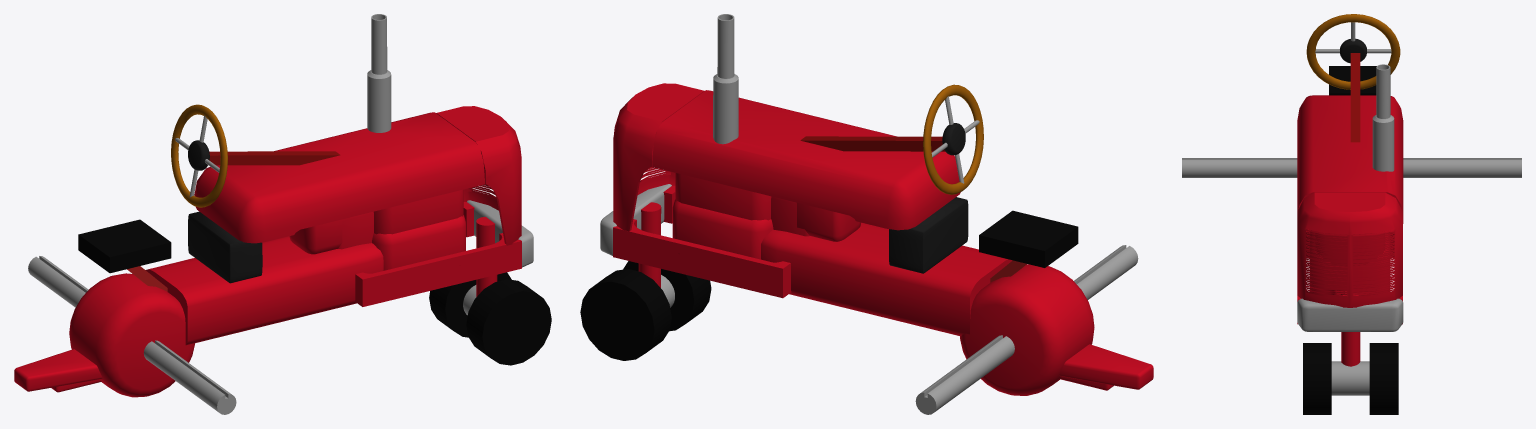
The model's file is corpseCar2.DAE.
The picture shows the model from 3 angles, left to right: view 1: azimuth 30°, elevation 25°; view 2: azimuth 150°, elevation 25°; view 3: azimuth 270°, elevation 25°; orthographic projection. The views are drawn at different scales.
Parts seen in each view (by area): view 1: ChamferBox01, ChamferBox06, ChamferBox30, Cylindre02, ChamferBox02, Box02, Cylinder143, Bo_te02, ChamferBox29, ChamferBox04, ChamferBox03, Torus03 (+9 smaller); view 2: ChamferBox01, ChamferBox06, ChamferBox30, Cylindre01, ChamferBox02, Box01, Cylinder143, Bo_te02, ChamferBox29, ChamferBox04, ChamferBox03, Torus03 (+9 smaller); view 3: ChamferBox02, ChamferBox01, Cylinder143, ChamferBox08, Cylindre01, Cylindre02, Torus03, Cylinder24, ChamferBox04, ChamferCyl24, Bo_te01, Bo_te02 (+4 smaller).
Boxes of the visible parts, x1,y1,x2,y2 form: ChamferBox01: (194, 112, 484, 243); ChamferBox06: (145, 236, 383, 345); ChamferBox30: (14, 273, 194, 397); Cylindre02: (466, 279, 551, 365); ChamferBox02: (436, 106, 521, 245); Box02: (355, 233, 521, 306); Cylinder143: (28, 256, 236, 414); Bo_te02: (78, 219, 171, 273); ChamferBox29: (188, 211, 262, 283); ChamferBox04: (372, 215, 465, 270); ChamferBox03: (373, 189, 463, 234); Torus03: (171, 104, 227, 207); ChamferBox01: (652, 90, 960, 230); ChamferBox06: (761, 222, 1012, 336); ChamferBox30: (960, 264, 1153, 395); Cylindre01: (580, 269, 671, 360); ChamferBox02: (613, 83, 704, 231); Box01: (613, 219, 791, 298); Cylinder143: (915, 245, 1138, 414); Bo_te02: (979, 210, 1078, 267); ChamferBox29: (889, 197, 968, 273); ChamferBox04: (672, 199, 773, 259); ChamferBox03: (675, 173, 771, 220); Torus03: (923, 84, 983, 194); ChamferBox02: (1297, 192, 1402, 307); ChamferBox01: (1297, 95, 1403, 223); Cylinder143: (1182, 158, 1521, 177); ChamferBox08: (1297, 298, 1403, 331); Cylindre01: (1369, 343, 1398, 414); Cylindre02: (1303, 343, 1331, 414); Torus03: (1306, 14, 1400, 89); Cylinder24: (1331, 361, 1369, 395); ChamferBox04: (1310, 230, 1390, 295); ChamferCyl24: (1372, 115, 1394, 171); Bo_te01: (1350, 53, 1360, 142); Bo_te02: (1329, 66, 1376, 95).
Bounding box in the file's own units: 54.44 × 35.31 × 34.72.
